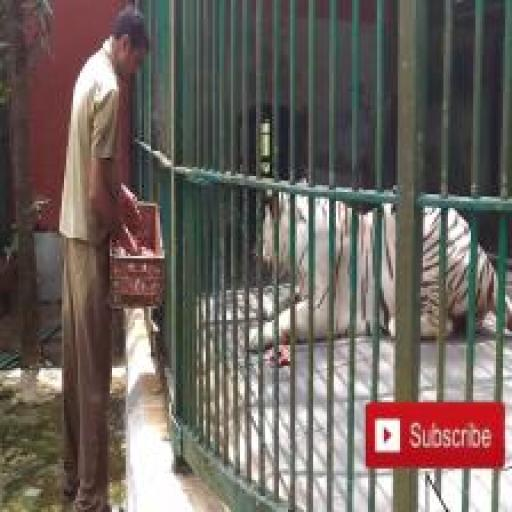Tiger: (247, 188, 512, 356)
